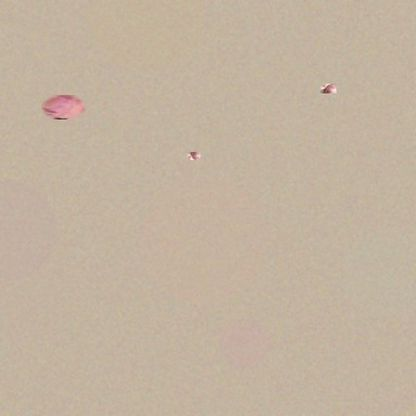rotten: (41, 95, 85, 119)
sprouted: (320, 84, 336, 93), (187, 152, 201, 160)
